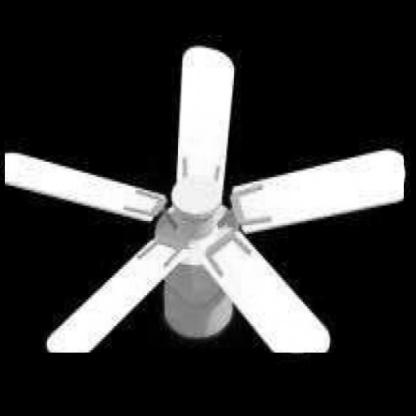ceiling-fan: (5, 43, 405, 353)
